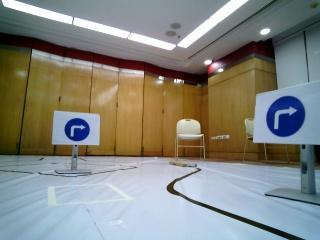right: (254, 93, 320, 147), (56, 114, 99, 146)
